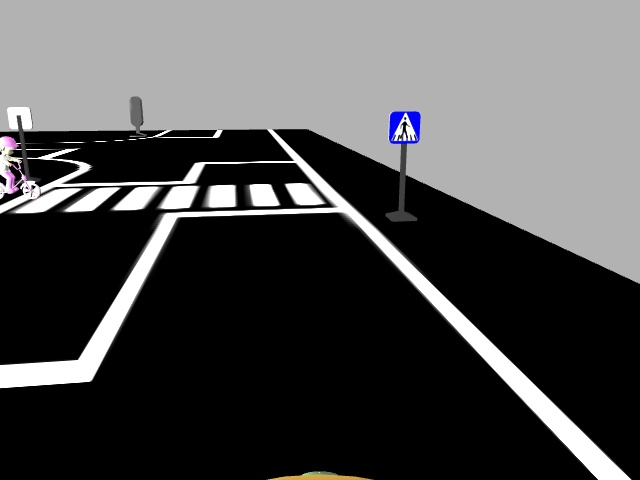Crosswalk: (388, 108, 420, 144)
